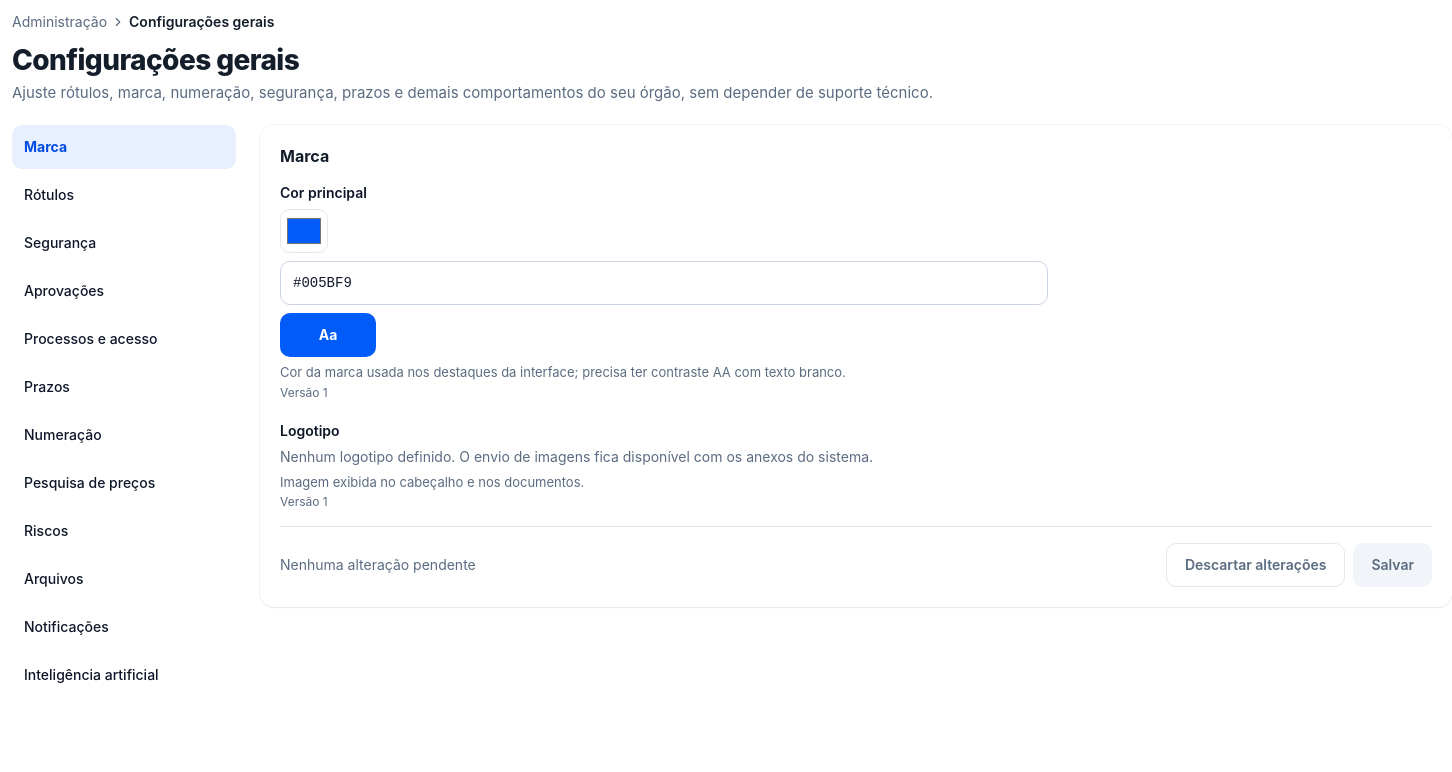
Test: SCR-041 · seção "Inteligência artificial" (US-116) › [Concorrência] 412 mostra o aviso de recarregar
Click the button "Inteligência artificial" at (124, 675), box [12,653,236,697]
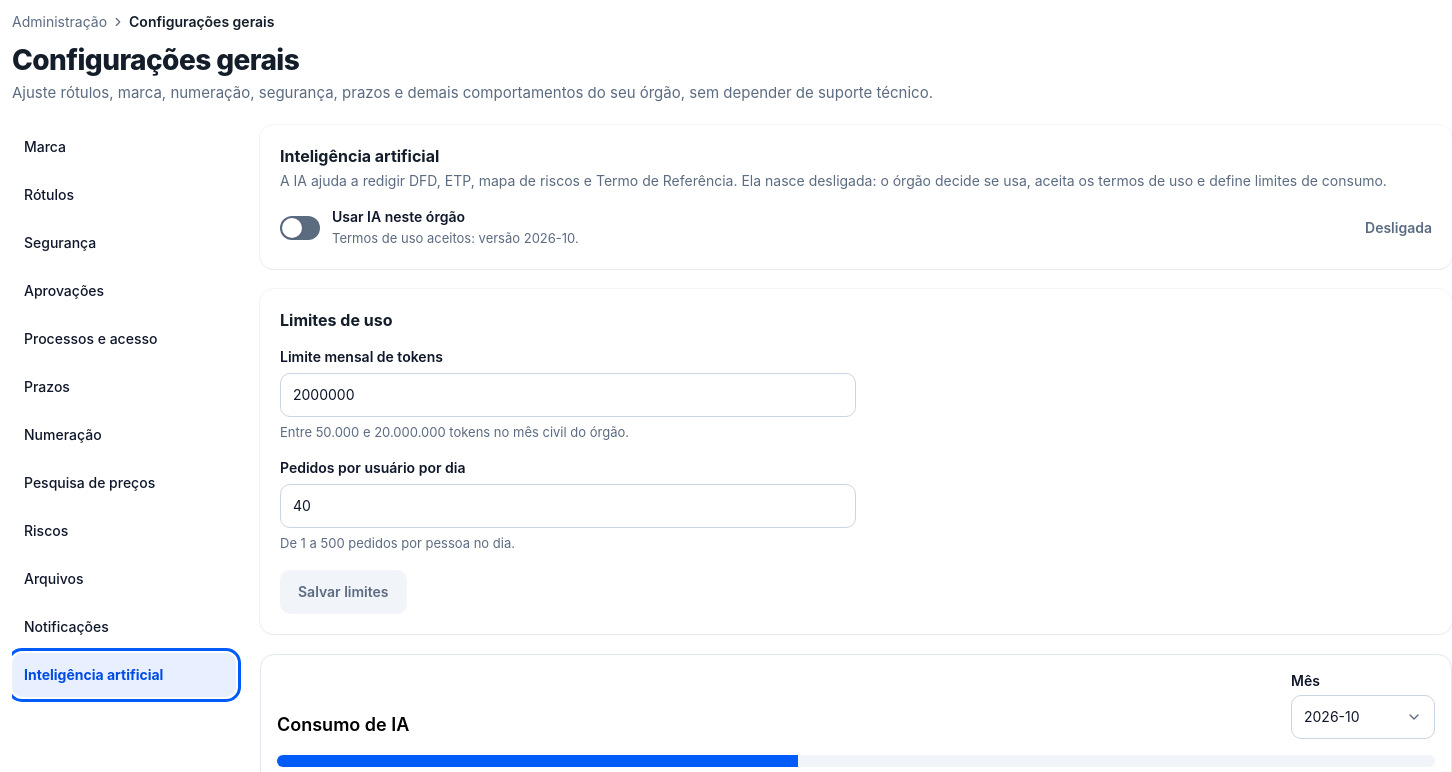
Click the switch named "Usar IA neste órgão" at (300, 228), box [280,216,320,240]
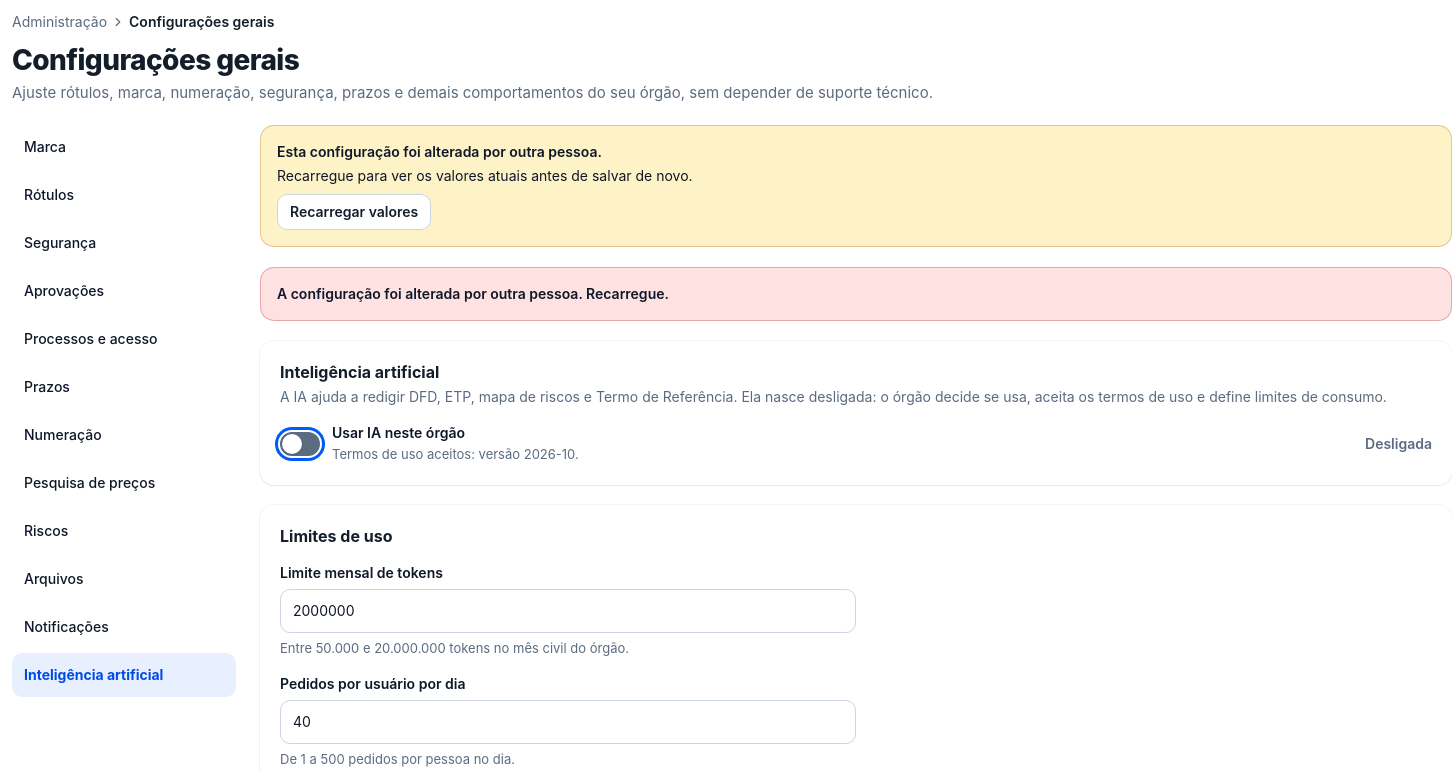
expect the text "A configuração foi alterada por outra pessoa. Recarregue." is shown: met, box [277,285,669,302]
